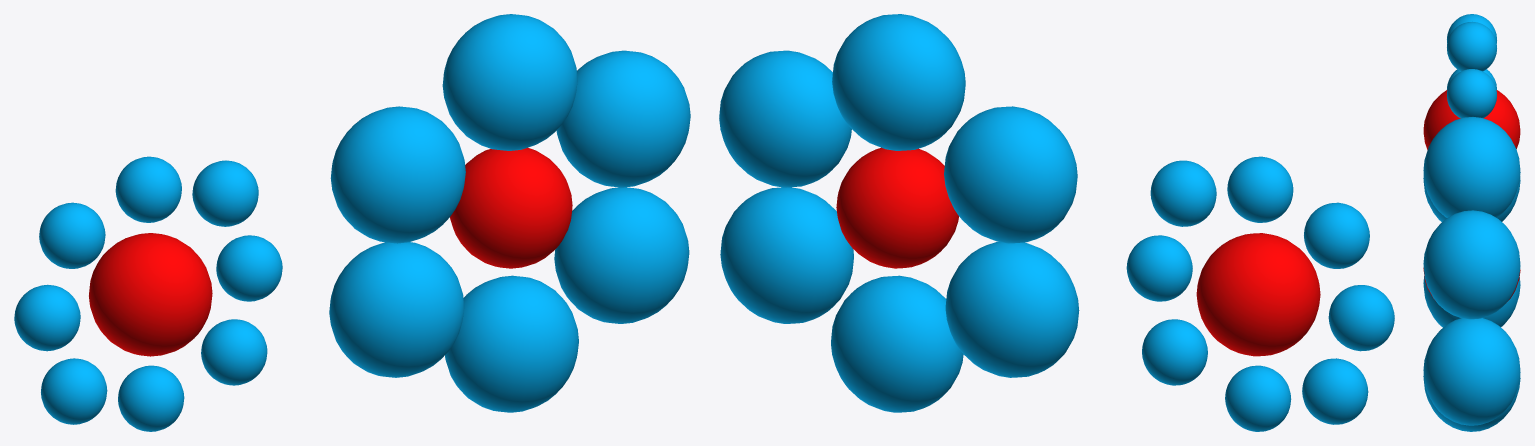
Rendered from Ebbinghaus_Colour.glb.
The picture shows the model from 3 angles, left to right: view 1: azimuth 30°, elevation 25°; view 2: azimuth 150°, elevation 25°; view 3: azimuth 270°, elevation 25°; orthographic projection. The views are drawn at different scales.
Visible parts, largest first — view 1: Sphere__4_, Sphere__3_, Sphere__7_, Sphere__2_, Sphere__6_, Sphere__5_, Sphere__1_, Sphere, Sphere__10_, Sphere__11_, Sphere__14_, Sphere__9_ (+4 smaller); view 2: Sphere__4_, Sphere__3_, Sphere__7_, Sphere__2_, Sphere__6_, Sphere__5_, Sphere__1_, Sphere, Sphere__17_, Sphere__9_, Sphere__11_, Sphere__13_ (+4 smaller); view 3: Sphere__5_, Sphere__2_, Sphere__3_, Sphere__9_, Sphere__10_, Sphere__1_, Sphere__7_, Sphere__6_, Sphere__12_, Sphere__4_, Sphere__15_.
Part boxes in pixels (x1,y1,x2,y2): Sphere__4_: [330, 106, 465, 243]; Sphere__3_: [442, 14, 577, 150]; Sphere__7_: [329, 242, 464, 377]; Sphere__2_: [554, 187, 689, 323]; Sphere__6_: [445, 275, 578, 412]; Sphere__5_: [556, 50, 690, 187]; Sphere__1_: [89, 233, 212, 356]; Sphere: [450, 147, 572, 268]; Sphere__10_: [115, 156, 181, 222]; Sphere__11_: [216, 235, 282, 301]; Sphere__14_: [201, 319, 267, 385]; Sphere__9_: [192, 160, 258, 226]; Sphere__4_: [944, 106, 1077, 243]; Sphere__3_: [832, 14, 965, 150]; Sphere__7_: [945, 242, 1079, 377]; Sphere__2_: [720, 187, 853, 323]; Sphere__6_: [831, 275, 963, 412]; Sphere__5_: [719, 50, 851, 187]; Sphere__1_: [1196, 233, 1320, 356]; Sphere: [836, 147, 958, 268]; Sphere__17_: [1302, 358, 1368, 424]; Sphere__9_: [1150, 160, 1216, 226]; Sphere__11_: [1126, 235, 1192, 301]; Sphere__13_: [1225, 365, 1291, 431]; Sphere__5_: [1423, 210, 1520, 319]; Sphere__2_: [1423, 318, 1520, 425]; Sphere__3_: [1423, 117, 1520, 217]; Sphere__9_: [1447, 69, 1496, 118]; Sphere__10_: [1447, 21, 1496, 71]; Sphere__1_: [1423, 90, 1520, 149]; Sphere__7_: [1423, 276, 1520, 327]; Sphere__6_: [1423, 375, 1520, 431]; Sphere__12_: [1447, 14, 1496, 43]; Sphere__4_: [1423, 175, 1520, 221]; Sphere__15_: [1447, 69, 1496, 89].
Size of the model in its own units: 6.19 by 3.46 by 0.9985.
